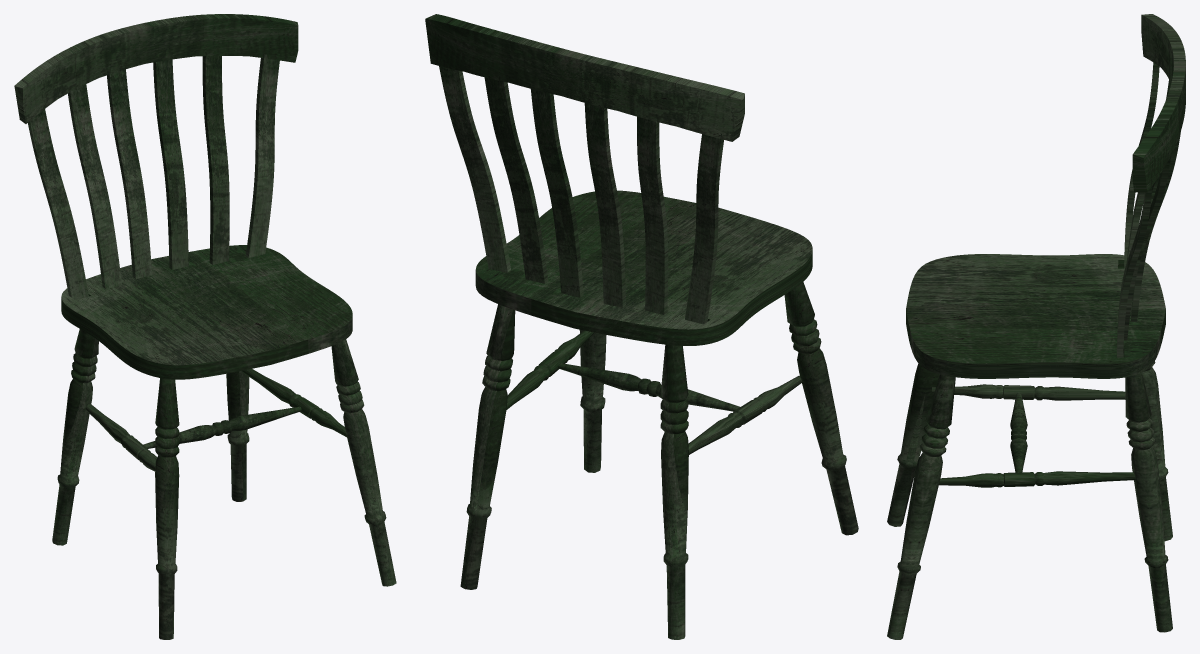
File: chair7.fbx
3 renders of one model, left to right at view 1: azimuth 30°, elevation 25°; view 2: azimuth 150°, elevation 25°; view 3: azimuth 270°, elevation 25°, orthographic. The views are drawn at different scales.
Visible parts, largest first — view 1: CHAIR_1-OBJ25_001, CHAIR_1-OBJ12_001, CHAIR_1-CHAIRLG2_001, CHAIR_1-CHAIRLG3_001, CHAIR_1-CHAIRLG4_001, CHAIR_1-B_001, CHAIR_1-D_001, CHAIR_1-A_001, CHAIR_1-OBJ4_001, CHAIR_1-OBJ3_001, CHAIR_1-OBJ2_001, CHAIR_1-CHAIRLG1_001 (+3 smaller); view 2: CHAIR_1-OBJ25_001, CHAIR_1-OBJ12_001, CHAIR_1-CHAIRLG4_001, CHAIR_1-CHAIRLG1_001, CHAIR_1-CHAIRLG2_001, CHAIR_1-OBJ3_001, CHAIR_1-B_001, CHAIR_1-A_001, CHAIR_1-D_001, CHAIR_1-OBJ4_001, CHAIR_1-OBJ2_001, CHAIR_1-CHAIRLG3_001 (+3 smaller); view 3: CHAIR_1-OBJ25_001, CHAIR_1-CHAIRLG3_001, CHAIR_1-CHAIRLG1_001, CHAIR_1-OBJ12_001, CHAIR_1-CHAIRLG2_001, CHAIR_1-OBJ20_001, CHAIR_1-OBJ24_001, CHAIR_1-CHAIRLG4_001, CHAIR_1-OBJ3_001, CHAIR_1-A_001, CHAIR_1-OBJ2_001, CHAIR_1-OBJ23_001 (+2 smaller).
Part boxes in pixels (x1,y1,x2,y2): CHAIR_1-OBJ25_001: [61, 245, 352, 379]; CHAIR_1-OBJ12_001: [14, 14, 298, 123]; CHAIR_1-CHAIRLG2_001: [155, 378, 179, 639]; CHAIR_1-CHAIRLG3_001: [331, 339, 396, 586]; CHAIR_1-CHAIRLG4_001: [52, 329, 98, 545]; CHAIR_1-B_001: [153, 59, 188, 269]; CHAIR_1-D_001: [107, 69, 152, 278]; CHAIR_1-A_001: [202, 56, 229, 264]; CHAIR_1-OBJ4_001: [68, 84, 121, 288]; CHAIR_1-OBJ3_001: [245, 54, 279, 257]; CHAIR_1-OBJ2_001: [28, 105, 88, 299]; CHAIR_1-CHAIRLG1_001: [226, 371, 249, 501]; CHAIR_1-OBJ25_001: [475, 190, 812, 345]; CHAIR_1-OBJ12_001: [425, 14, 744, 141]; CHAIR_1-CHAIRLG4_001: [660, 344, 688, 639]; CHAIR_1-CHAIRLG1_001: [460, 304, 515, 589]; CHAIR_1-CHAIRLG2_001: [784, 282, 858, 535]; CHAIR_1-OBJ3_001: [438, 60, 510, 272]; CHAIR_1-B_001: [530, 89, 583, 297]; CHAIR_1-A_001: [484, 77, 548, 283]; CHAIR_1-D_001: [584, 103, 625, 307]; CHAIR_1-OBJ4_001: [637, 116, 668, 314]; CHAIR_1-OBJ2_001: [685, 133, 723, 324]; CHAIR_1-CHAIRLG3_001: [579, 329, 606, 472]; CHAIR_1-OBJ25_001: [906, 254, 1165, 378]; CHAIR_1-CHAIRLG3_001: [887, 374, 955, 639]; CHAIR_1-CHAIRLG1_001: [1125, 373, 1172, 632]; CHAIR_1-OBJ12_001: [1132, 14, 1185, 192]; CHAIR_1-CHAIRLG2_001: [887, 363, 939, 526]; CHAIR_1-OBJ20_001: [939, 471, 1135, 487]; CHAIR_1-OBJ24_001: [932, 384, 1125, 400]; CHAIR_1-CHAIRLG4_001: [1142, 361, 1172, 541]; CHAIR_1-OBJ3_001: [1116, 181, 1152, 357]; CHAIR_1-A_001: [1124, 155, 1171, 339]; CHAIR_1-OBJ2_001: [1124, 60, 1159, 268]; CHAIR_1-OBJ23_001: [1010, 393, 1027, 472].
Bounding box in the file's own units: 58.86 × 98.84 × 52.
1 material, 1 textured.
